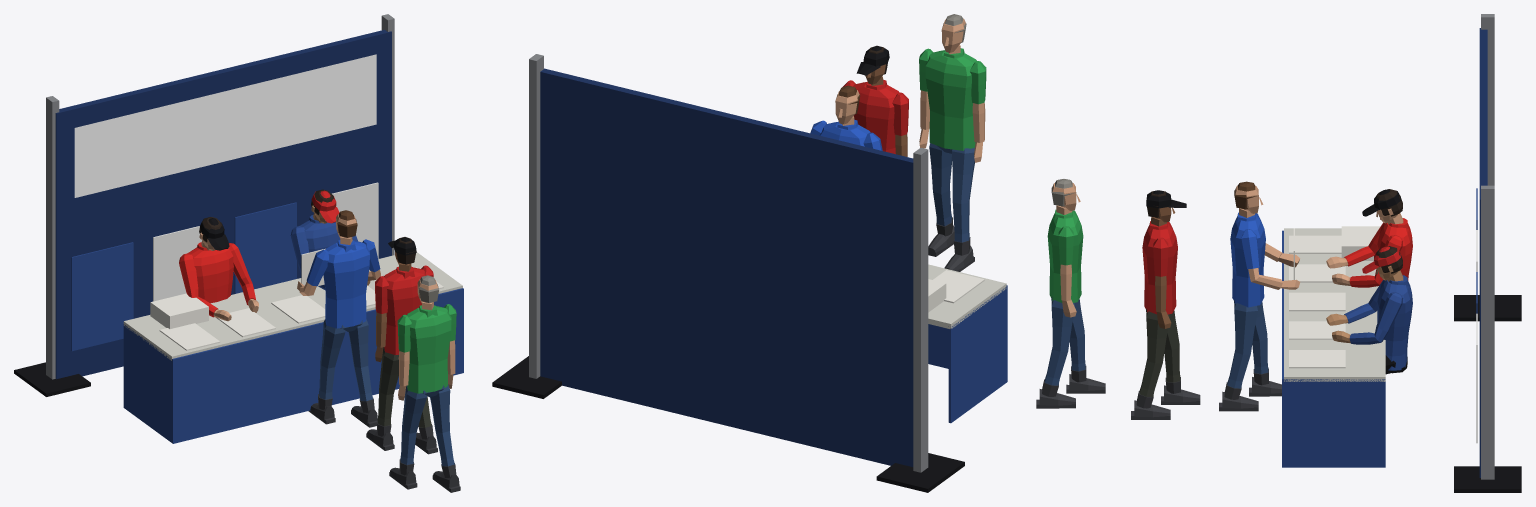
The model's file is signing_table.glb.
The picture shows the model from 3 angles, left to right: view 1: azimuth 30°, elevation 25°; view 2: azimuth 150°, elevation 25°; view 3: azimuth 270°, elevation 25°; orthographic projection. The views are drawn at different scales.
Parts seen in each view (by area): view 1: Table, People, Words; view 2: Table, People; view 3: Table, People.
Boxes of the visible parts, box(x1,y1,x2,y2) form: Table: box(14, 14, 463, 443); People: box(179, 189, 460, 492); Words: box(74, 54, 376, 197); Table: box(492, 54, 1007, 492); People: box(810, 14, 986, 271); Table: box(1282, 14, 1521, 492); People: box(1036, 179, 1412, 419).
Bounding box in the file's own units: 3.4 × 2.4 × 3.59.
